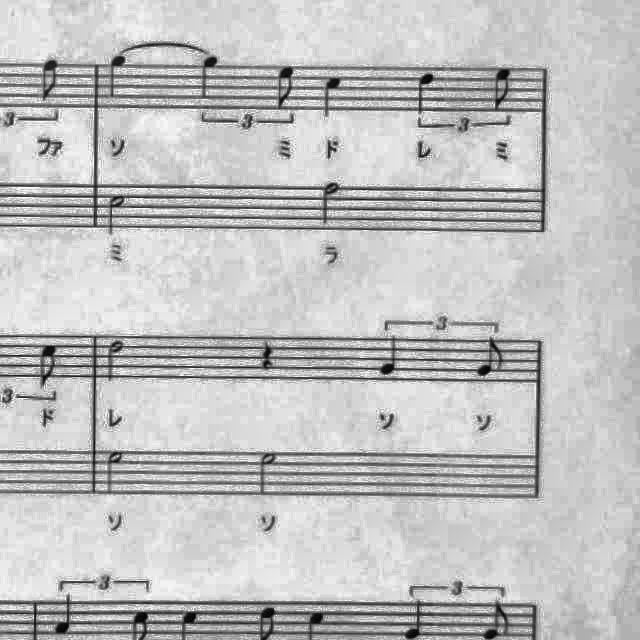Eighth-note: (470, 332, 510, 382), (476, 596, 516, 640), (270, 61, 302, 115), (36, 54, 68, 108), (32, 338, 64, 390), (487, 64, 518, 116)
Half-note: (315, 177, 345, 231), (254, 448, 284, 500), (101, 189, 131, 239), (101, 446, 129, 498), (102, 336, 130, 386)
Quarter-note: (316, 72, 348, 126), (194, 52, 226, 104), (102, 52, 134, 104), (410, 68, 442, 119), (374, 331, 406, 381), (398, 596, 434, 640), (51, 593, 81, 639)
Quarter-rest: (253, 333, 281, 375)
